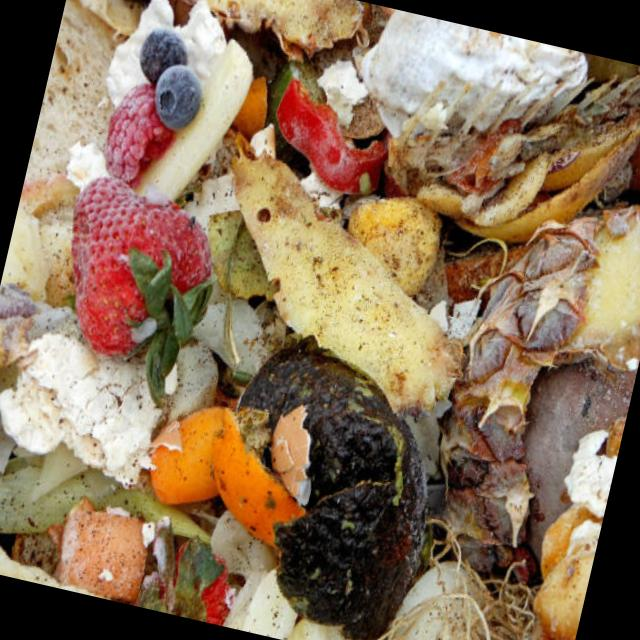paper: (192, 120, 518, 427), (348, 7, 604, 175), (37, 161, 226, 365), (133, 386, 328, 548), (526, 404, 626, 638), (52, 501, 180, 611), (98, 62, 176, 188), (266, 386, 344, 501), (149, 58, 215, 140), (142, 24, 186, 68)
